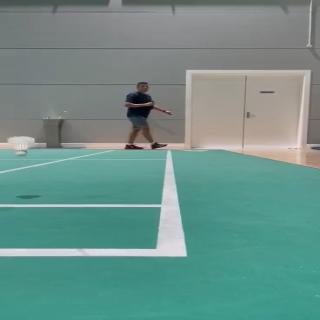Shuttle: (8, 136, 35, 156)
